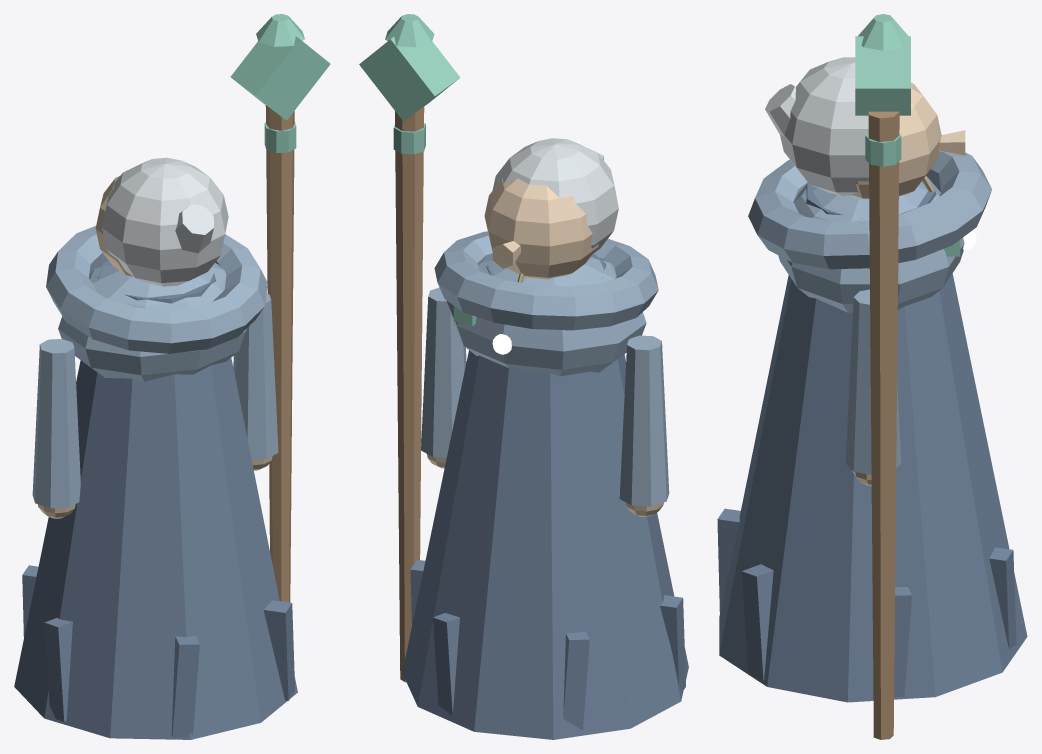
Rendered from ilyra_fen.glb.
3 views of the same model, side by side, from view 1: azimuth 30°, elevation 25°; view 2: azimuth 150°, elevation 25°; view 3: azimuth 270°, elevation 25° (orthographic). The views are drawn at different scales.
Visible parts, largest first — view 1: Body, Staff, ArmL, ArmR; view 2: Body, Staff, ArmL, ArmR; view 3: Body, Staff, ArmR.
Part boxes in pixels (left/top/right/bottom): Body: left=14, top=157, right=297, bottom=739; Staff: left=230, top=14, right=330, bottom=602; ArmL: left=32, top=339, right=80, bottom=518; ArmR: left=233, top=293, right=278, bottom=470; Body: left=402, top=138, right=688, bottom=739; Staff: left=359, top=14, right=460, bottom=682; ArmL: left=619, top=335, right=669, bottom=517; ArmR: left=421, top=287, right=466, bottom=468; Body: left=717, top=57, right=1027, bottom=702; Staff: left=855, top=14, right=910, bottom=739; ArmR: left=845, top=289, right=901, bottom=486.
Bounding box in the file's own units: 1.12 × 2.42 × 0.9457.
